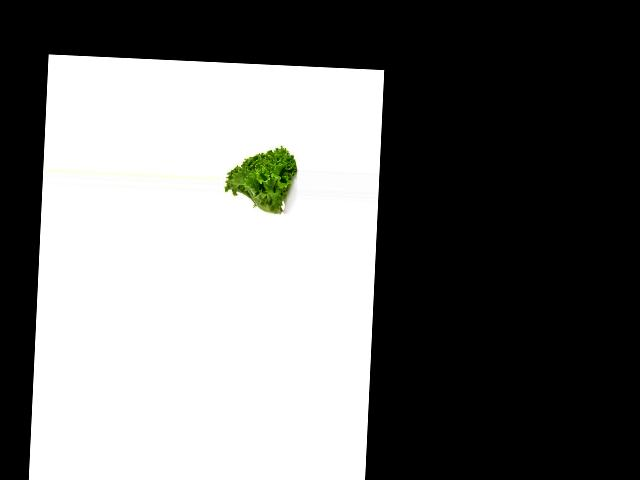lettuce: (221, 139, 298, 219)
